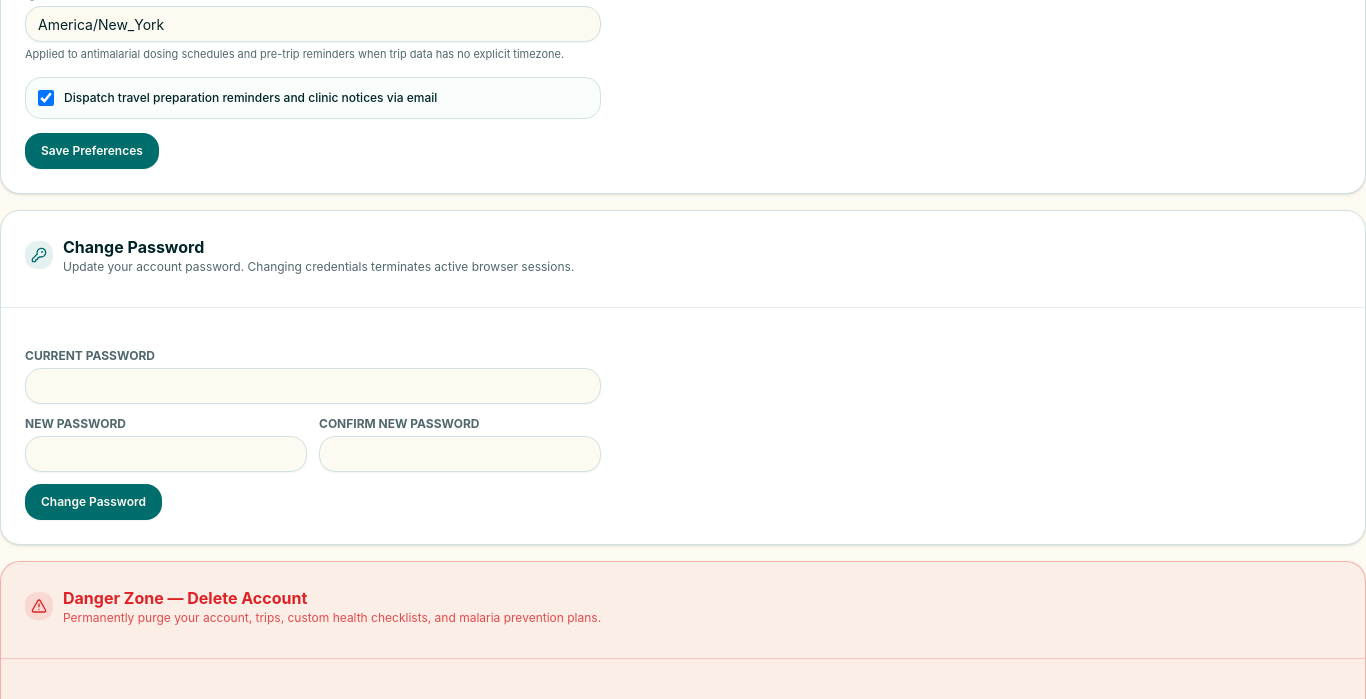
Test: AccountPage › shows error when new password and confirm password do not match
This screenshot has width=1366, height=699.
(page scrolled)
Step 1. Type "old-password" into the password field labelled "Current Password" → coordinates (313, 386), box [25,368,601,404]
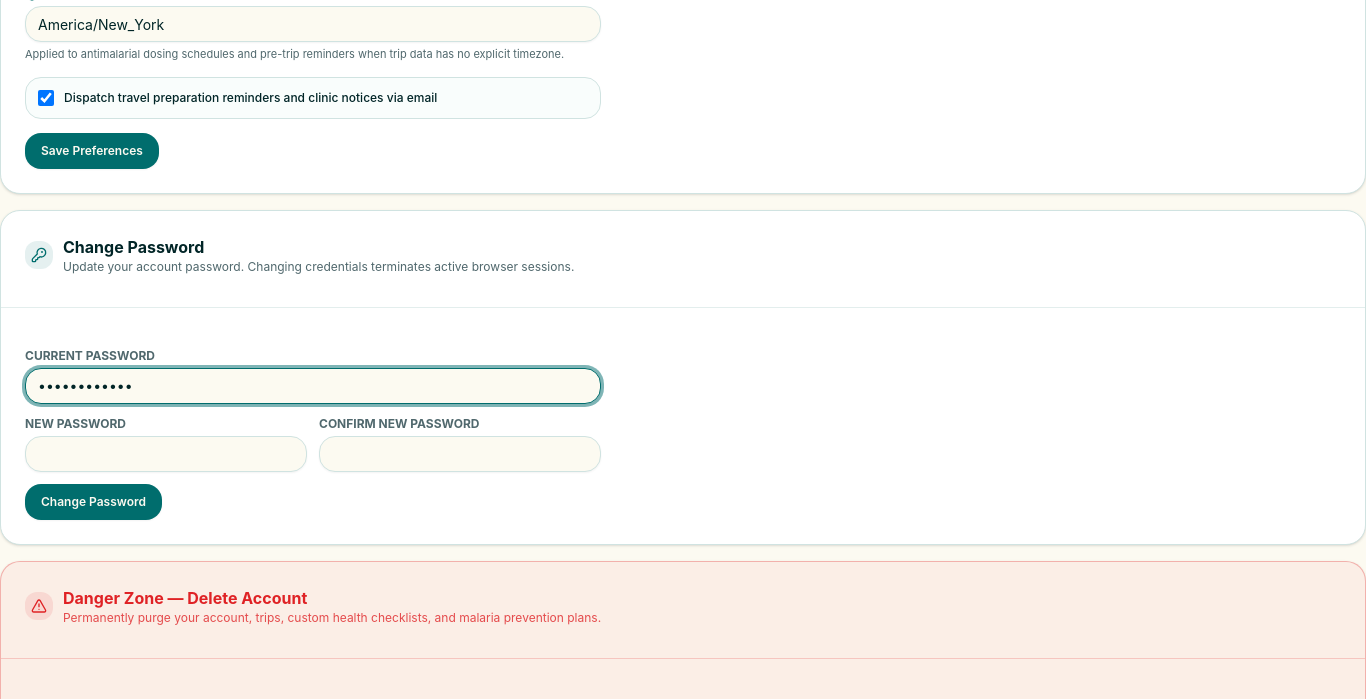
Step 2. Type "new-password-123" into the password field labelled "New Password" → coordinates (166, 454), box [25,436,307,472]
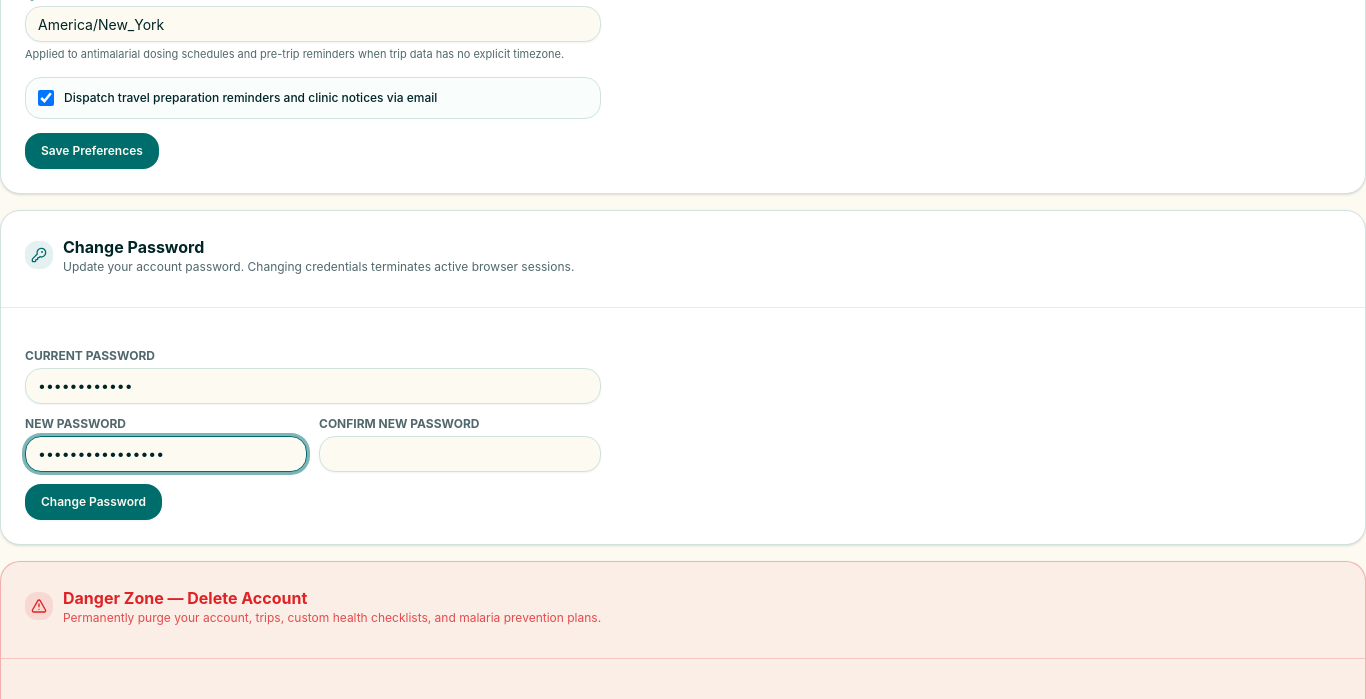
Step 3. Type "different-password" into the password field labelled "Confirm New Password" → coordinates (460, 454), box [319,436,601,472]
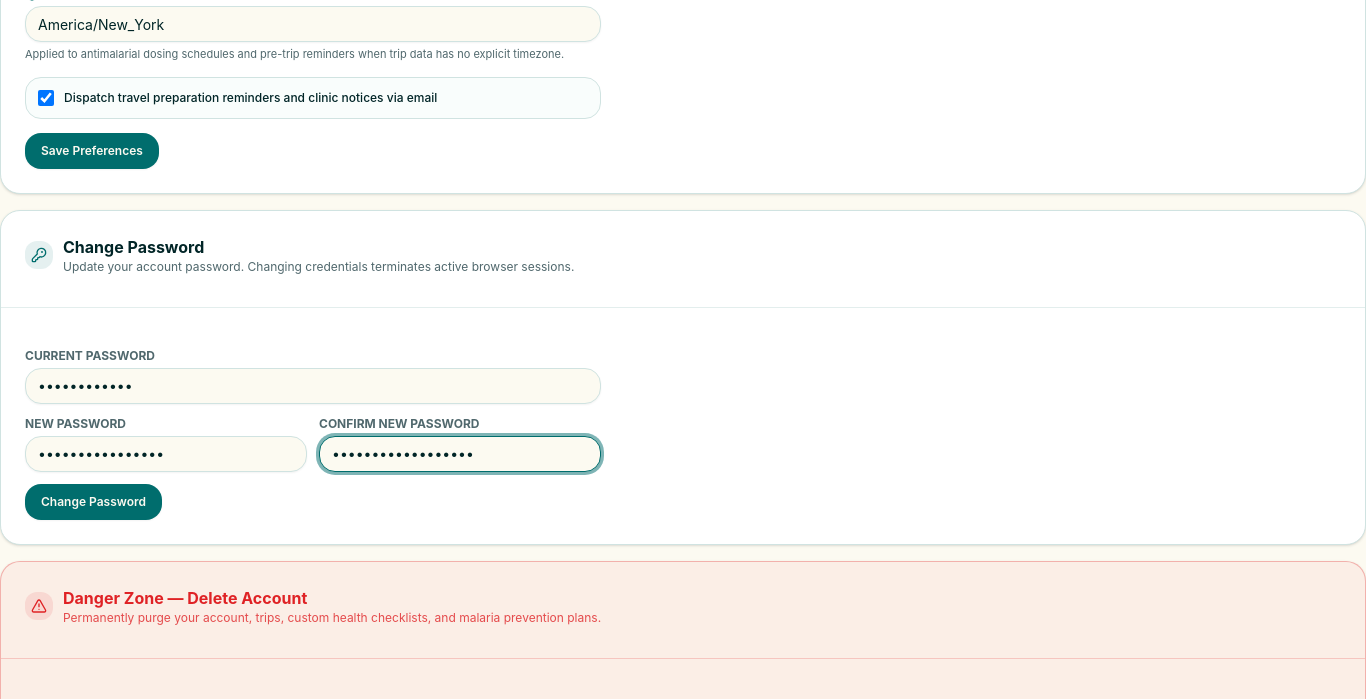
Step 4. Click the button "Change Password" → coordinates (94, 502), box [25,484,162,520]
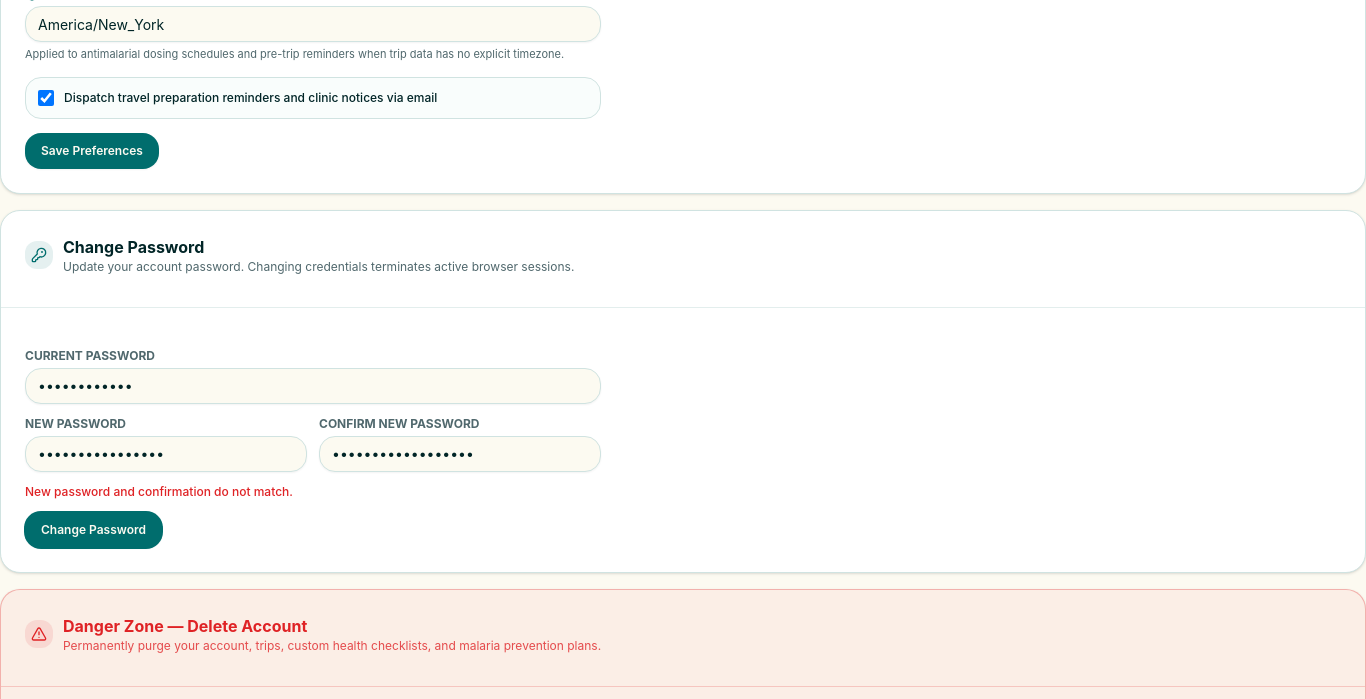
Expected: the text "New password and confirmation do not match." is shown, [25,484,293,498]
